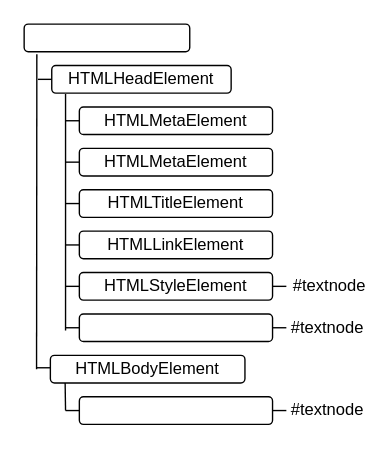
This 391x449 diagram has some shape labels left out. Here are the shapes that lost their labels. From the top down, the centre of each, then its label:
point (106, 37): HTMLHtmlElement
point (175, 327): HTMLScriptElement
point (175, 409): HTMLDivElement
